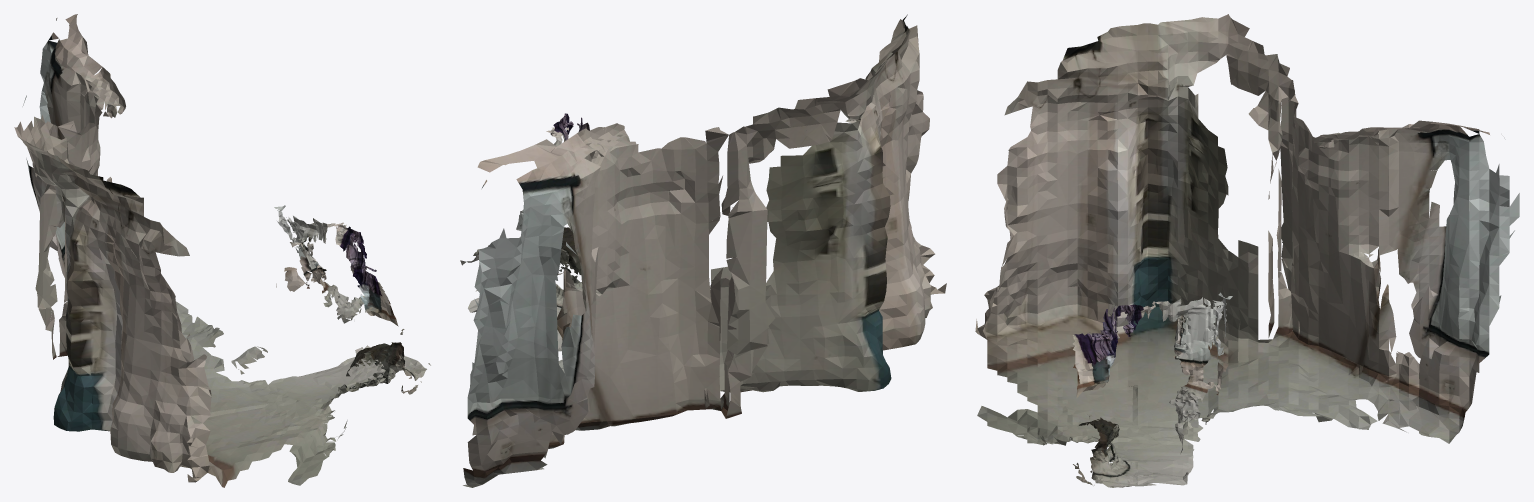
3 views of the same model, side by side, from view 1: azimuth 30°, elevation 25°; view 2: azimuth 150°, elevation 25°; view 3: azimuth 270°, elevation 25° (orthographic). The views are drawn at different scales.
Visible parts, largest first — view 1: mesh; view 2: mesh; view 3: mesh.
Part boxes in pixels (x1,y1,x2,y2): mesh: [14, 14, 430, 487]; mesh: [460, 14, 946, 487]; mesh: [975, 14, 1519, 487].
Size of the model in its own units: 4.28 by 3.51 by 5.42.
Materials: 1 (1 with a texture image).
